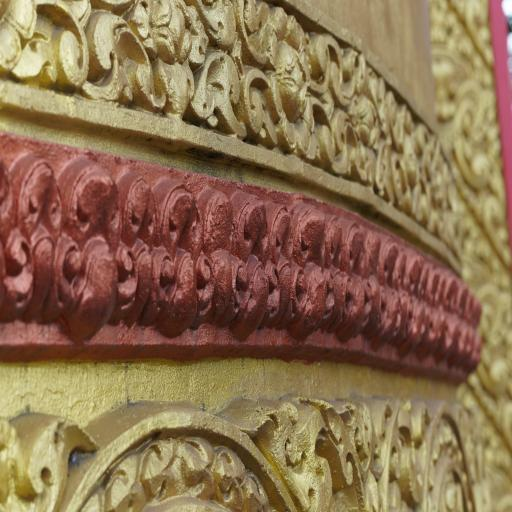hoa: (65, 408, 301, 512)
la: (84, 0, 243, 129), (242, 0, 348, 176), (50, 144, 125, 350), (0, 140, 67, 339), (350, 51, 424, 209), (153, 175, 216, 332), (0, 0, 93, 93), (112, 169, 162, 332), (193, 181, 247, 328), (301, 396, 368, 512), (430, 409, 499, 512), (233, 184, 272, 345), (292, 192, 330, 339), (316, 199, 354, 336), (264, 184, 296, 341), (380, 413, 428, 510), (339, 210, 370, 349), (358, 207, 385, 344), (420, 244, 449, 364), (377, 223, 400, 365), (399, 239, 422, 359), (446, 264, 466, 366), (465, 282, 483, 376)
